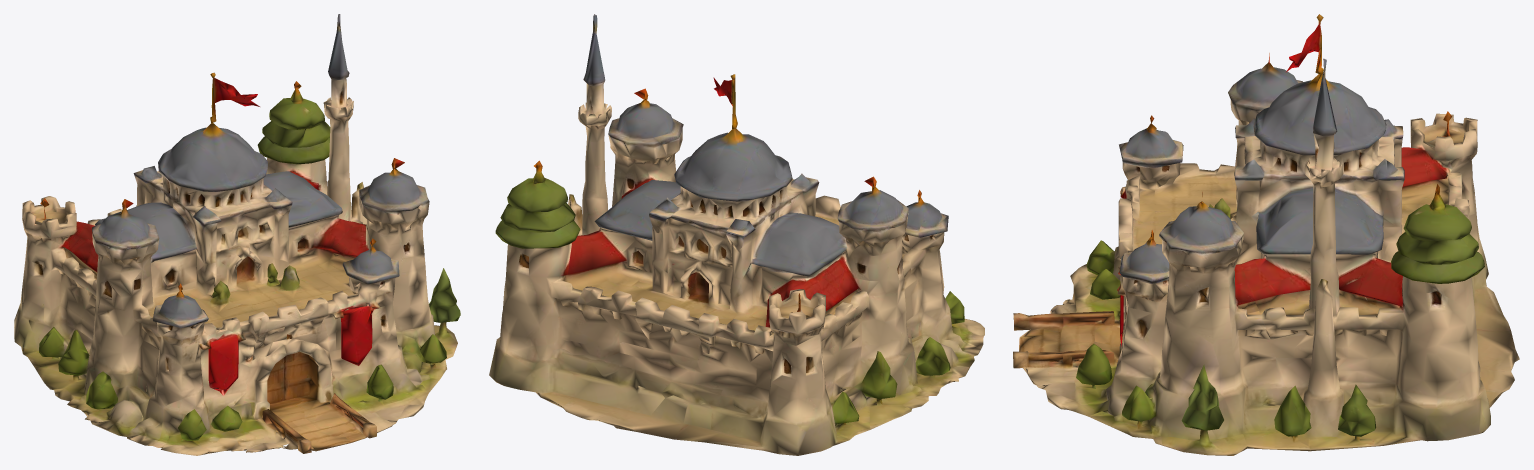
File: kale.glb
3 views of the same model, side by side, from view 1: azimuth 30°, elevation 25°; view 2: azimuth 150°, elevation 25°; view 3: azimuth 270°, elevation 25° (orthographic). The views are drawn at different scales.
Parts seen in each view (by area): view 1: tripo_node_7079c0a4-e127-407e-8594-900120cb1ede; view 2: tripo_node_7079c0a4-e127-407e-8594-900120cb1ede; view 3: tripo_node_7079c0a4-e127-407e-8594-900120cb1ede.
Boxes of the visible parts, box(x1,y1,x2,y2) form: tripo_node_7079c0a4-e127-407e-8594-900120cb1ede: box(14, 14, 460, 455); tripo_node_7079c0a4-e127-407e-8594-900120cb1ede: box(489, 14, 984, 455); tripo_node_7079c0a4-e127-407e-8594-900120cb1ede: box(1013, 14, 1519, 455).
Size of the model in its own units: 0.9794 by 0.7844 by 0.9797.
Materials: 1 (1 with a texture image).
